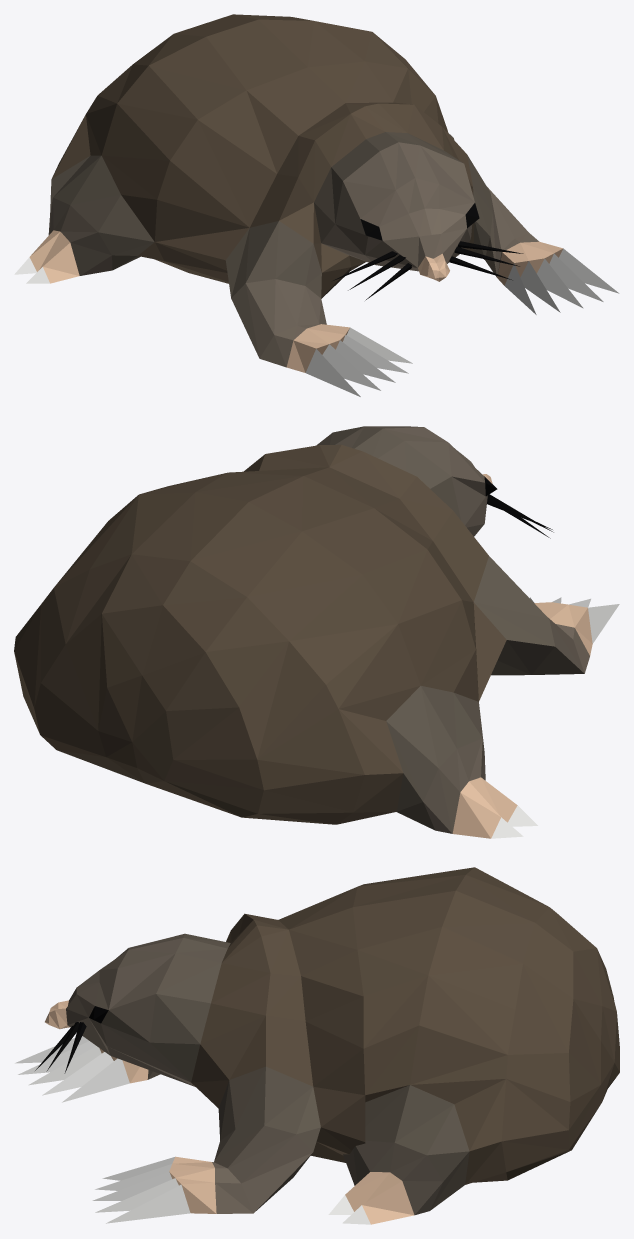
The model's file is giant_mole.glb.
3 views of the same model, one above another, from view 1: azimuth 30°, elevation 25°; view 2: azimuth 150°, elevation 25°; view 3: azimuth 270°, elevation 25° (orthographic). The views are drawn at different scales.
Size of the model in its own units: 362 by 163 by 397.
Materials: 2 (2 with a texture image).
